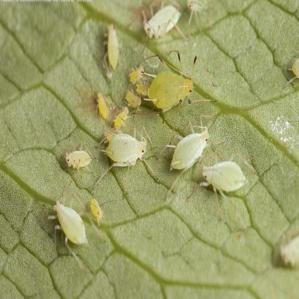Green peach aphid: (38, 192, 100, 257), (139, 55, 203, 114), (157, 124, 215, 178), (126, 1, 192, 48), (192, 159, 247, 200), (99, 126, 146, 168), (91, 23, 128, 76), (83, 187, 124, 226), (53, 137, 92, 169), (86, 91, 114, 122), (119, 81, 144, 109), (109, 111, 139, 131)
